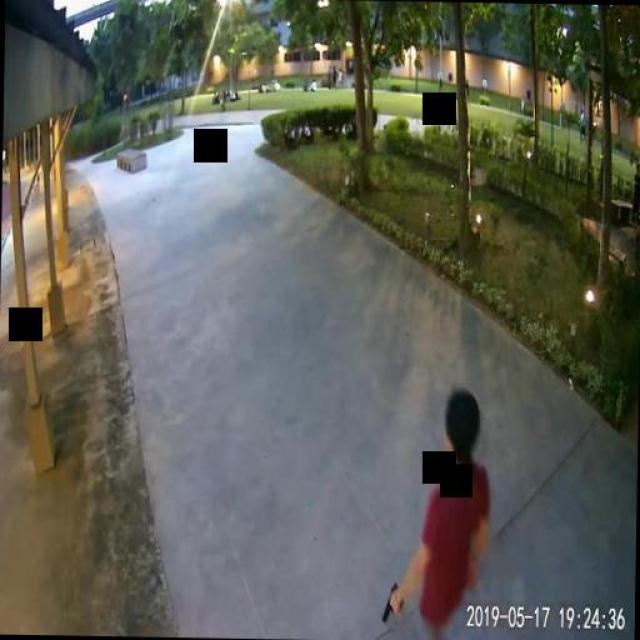gun: (382, 581, 402, 620)
